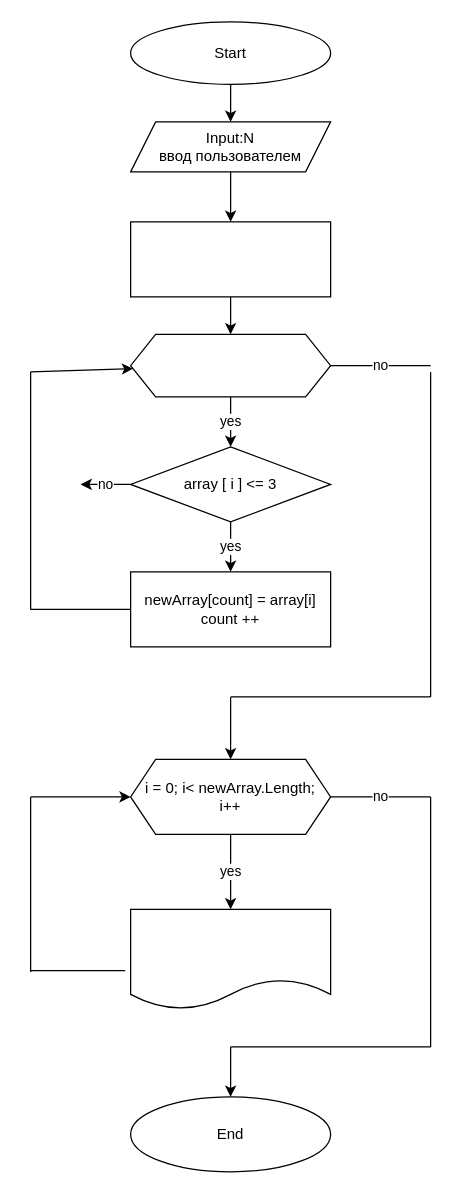
This 454x1194 diagram has some shape labels left out. The centre of each missing label's shape, as x and y in pixels:
"array[ ] = N newArray[ ] = array.Length count = 0" goes at point 230,259.
"i = 0; i < array.Length; i++" goes at point 230,365.
"Out: newArray[i]" goes at point 230,958.
